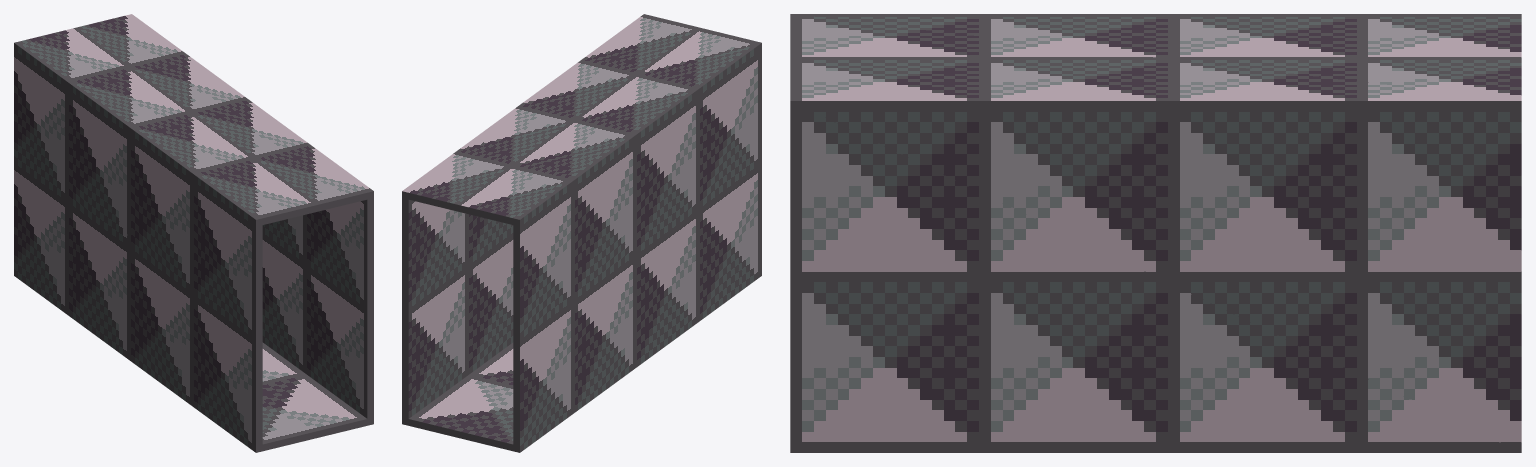
The model's file is Vent4x.fbx.
The picture shows the model from 3 angles, left to right: view 1: azimuth 30°, elevation 25°; view 2: azimuth 150°, elevation 25°; view 3: azimuth 270°, elevation 25°; orthographic projection. The views are drawn at different scales.
Visible parts, largest first — view 1: Vent4x; view 2: Vent4x; view 3: Vent4x.
Boxes of the visible parts, x1,y1,x2,y2 form: Vent4x: (14,14,373,452); Vent4x: (402,14,761,452); Vent4x: (790,14,1521,452).
Bounding box in the file's own units: 112 × 213 × 400.
